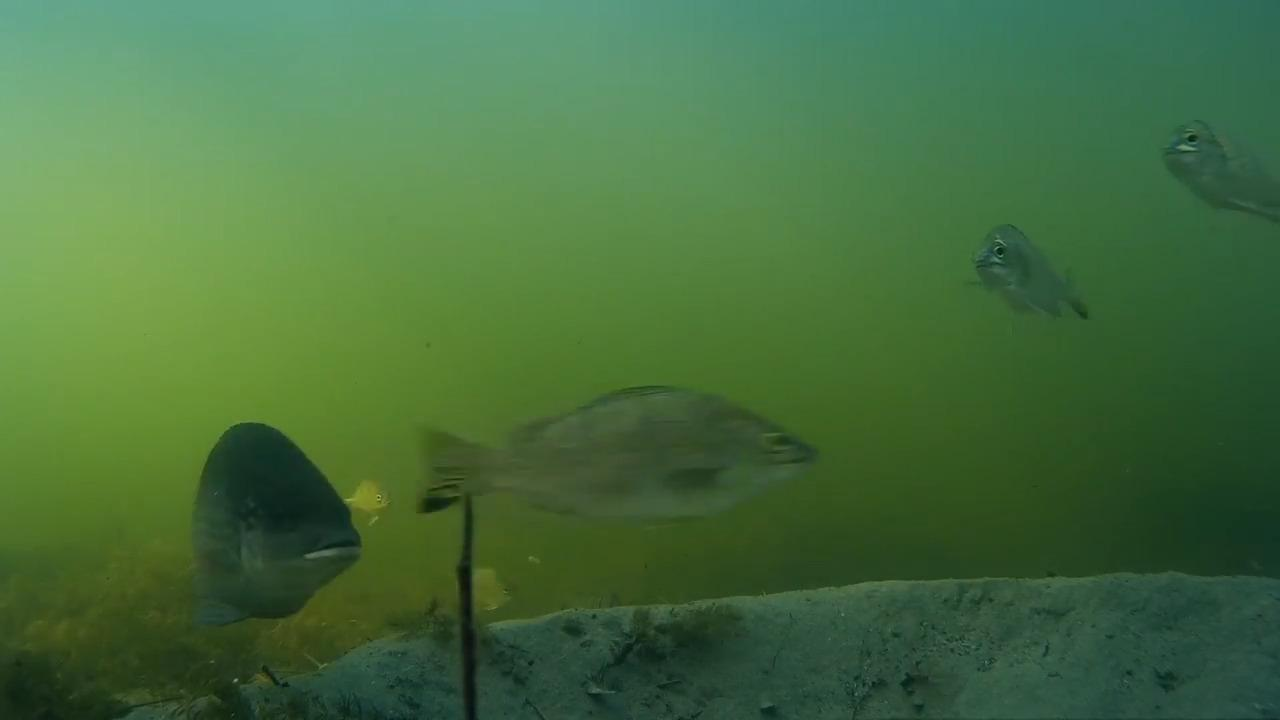Tilapia: (416, 372, 813, 546), (158, 398, 359, 650), (943, 198, 1098, 348), (1153, 108, 1280, 220)
